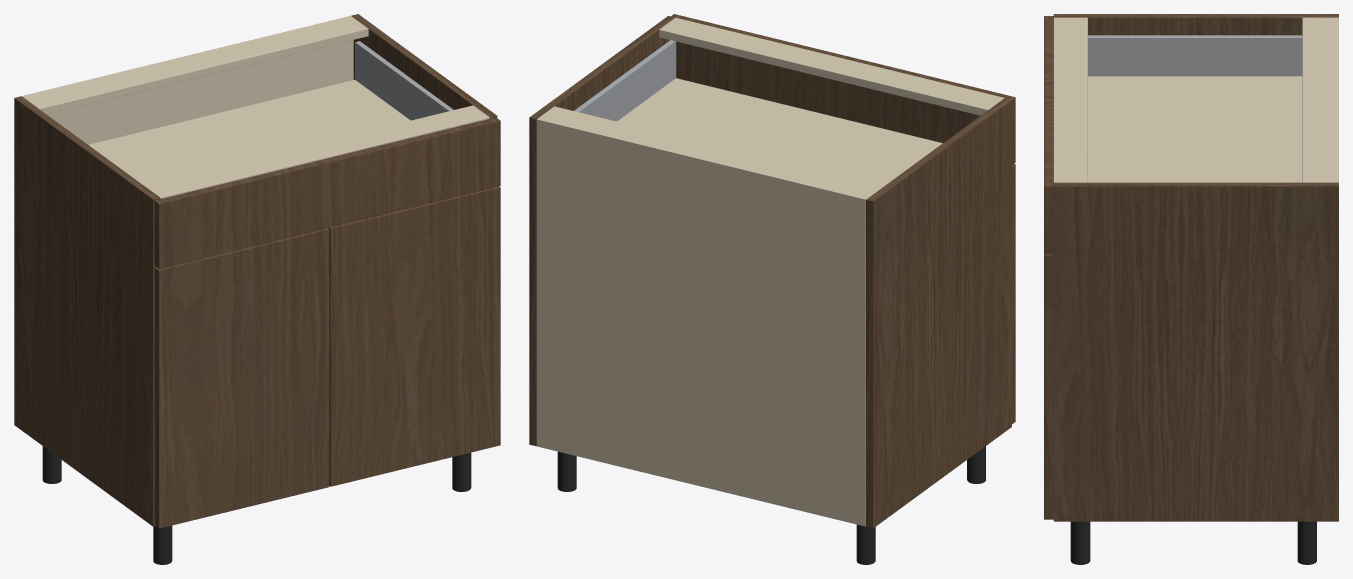
Rendered from oppein-ply-mso-b33.glb.
3 views of the same model, side by side, from view 1: azimuth 30°, elevation 25°; view 2: azimuth 150°, elevation 25°; view 3: azimuth 270°, elevation 25° (orthographic). The views are drawn at different scales.
Parts seen in each view (by area): view 1: Cabinet side, Door, Door.001, Drawer front, Drawer floor, Cabinet back, Top support rail, Top support rail.001, Drawer side.001, Cabinet side.001, Adjustable foot.001, Adjustable foot.003 (+1 smaller); view 2: Cabinet back, Cabinet side, Drawer floor, Drawer front, Top support rail.001, Cabinet side.001, Top support rail, Drawer side.001, Door, Adjustable foot, Adjustable foot.002; view 3: Cabinet side.001, Drawer floor, Drawer side, Top support rail.001, Top support rail, Cabinet side, Door.001, Drawer front, Cabinet back, Adjustable foot.003, Adjustable foot.002.
Boxes of the visible parts, x1,y1,x2,y2 form: Cabinet side: (14,96,160,526); Door: (154,228,329,528); Door.001: (328,186,500,486); Drawer front: (154,117,500,269); Drawer floor: (88,80,410,185); Cabinet back: (22,16,353,144); Top support rail: (24,17,368,114); Top support rail.001: (144,105,489,198); Drawer side.001: (355,41,453,120); Cabinet side.001: (351,14,497,118); Adjustable foot.001: (153,525,172,564); Adjustable foot.003: (452,452,471,491); Cabinet back: (536,117,867,526); Cabinet side: (866,98,1011,528); Drawer floor: (617,78,942,186); Drawer front: (671,14,1015,164); Top support rail.001: (659,17,1004,115); Cabinet side.001: (529,16,674,446); Top support rail: (540,106,883,198); Drawer side.001: (574,40,676,121); Door: (1012,163,1015,423); Adjustable foot: (856,524,875,564); Adjustable foot.002: (557,451,576,491); Cabinet side.001: (1053,182,1338,521); Drawer floor: (1088,76,1302,182); Drawer side: (1088,35,1302,76); Top support rail.001: (1053,17,1087,182); Top support rail: (1302,17,1333,182); Cabinet side: (1053,14,1338,35); Door.001: (1044,254,1053,519); Drawer front: (1044,16,1053,253); Cabinet back: (1333,17,1338,182); Adjustable foot.003: (1070,521,1090,564); Adjustable foot.002: (1297,521,1316,564).
Bounding box in the file's own units: 0.8382 × 0.8763 × 0.6064.
Materials: 4 (1 with a texture image).
